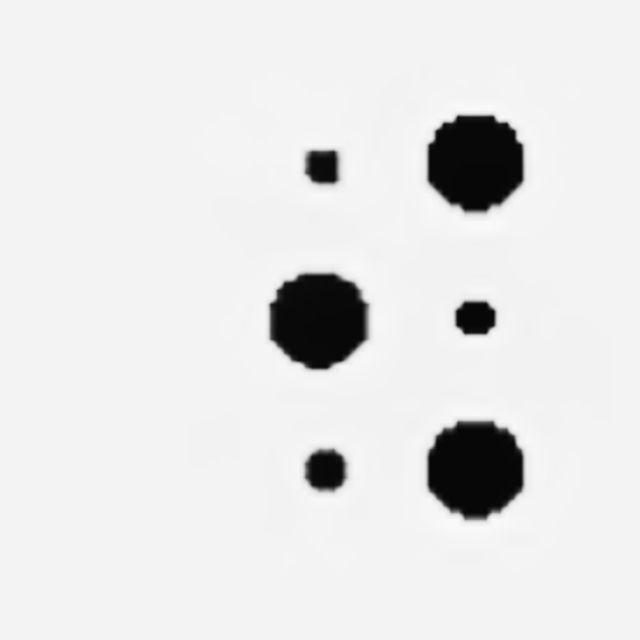aw: (269, 112, 523, 526)
